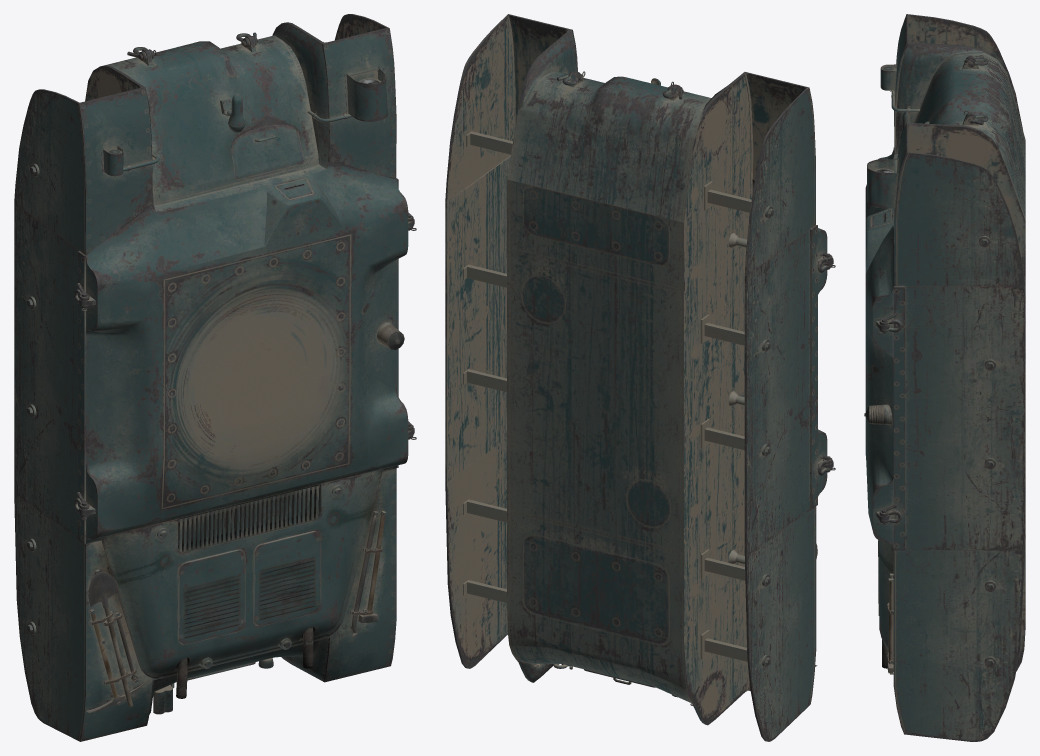
Rendered from Hull.glb.
3 views of the same model, side by side, from view 1: azimuth 30°, elevation 25°; view 2: azimuth 150°, elevation 25°; view 3: azimuth 270°, elevation 25° (orthographic). The views are drawn at different scales.
Visible parts, largest first — view 1: set_0_group_0; view 2: set_0_group_0; view 3: set_0_group_0.
Part boxes in pixels (<box>): set_0_group_0: <box>14,14,416,741</box>; set_0_group_0: <box>445,14,835,741</box>; set_0_group_0: <box>864,14,1025,741</box>.
Bounding box in the file's own units: 2.74 × 5.08 × 1.25.
1 material, 1 textured.
